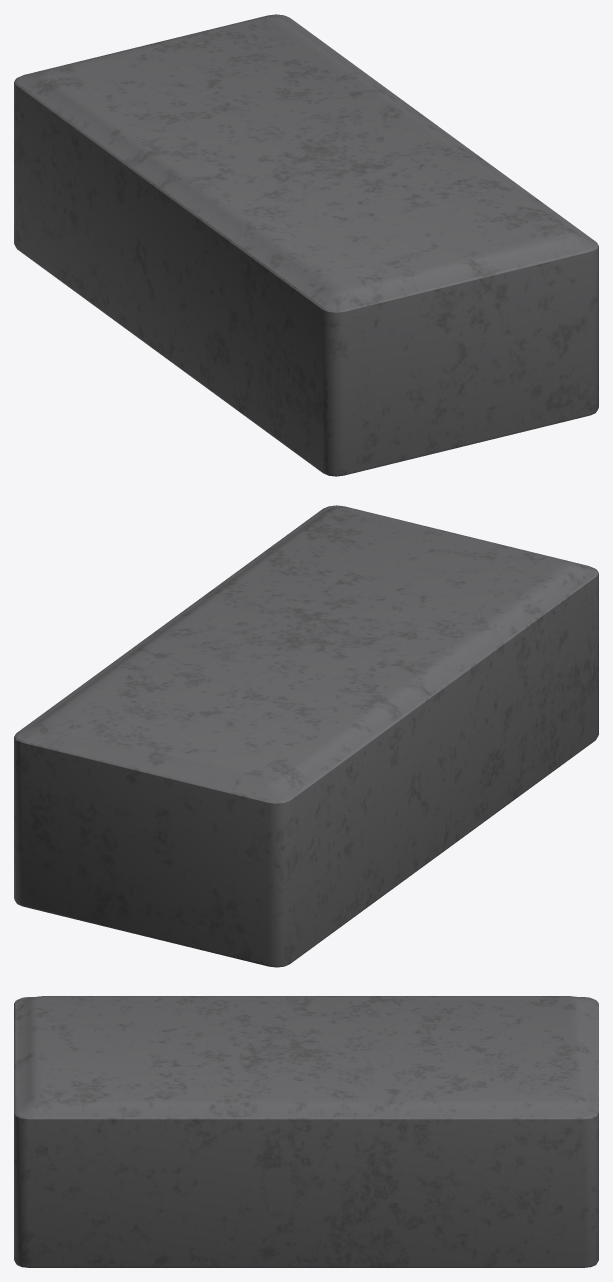
Rendered from col_classic-charcoal.glb.
The picture shows the model from 3 angles, top to bottom: view 1: azimuth 30°, elevation 25°; view 2: azimuth 150°, elevation 25°; view 3: azimuth 270°, elevation 25°; orthographic projection. The views are drawn at different scales.
Visible parts, largest first — view 1: Colonial Classic; view 2: Colonial Classic; view 3: Colonial Classic.
Boxes of the visible parts, box(x1,y1,x2,y2) form: Colonial Classic: box(14, 14, 598, 476); Colonial Classic: box(14, 505, 598, 967); Colonial Classic: box(14, 996, 598, 1267).
Size of the model in its own units: 0.0984 by 0.0603 by 0.2.
Materials: 1 (1 with a texture image).
